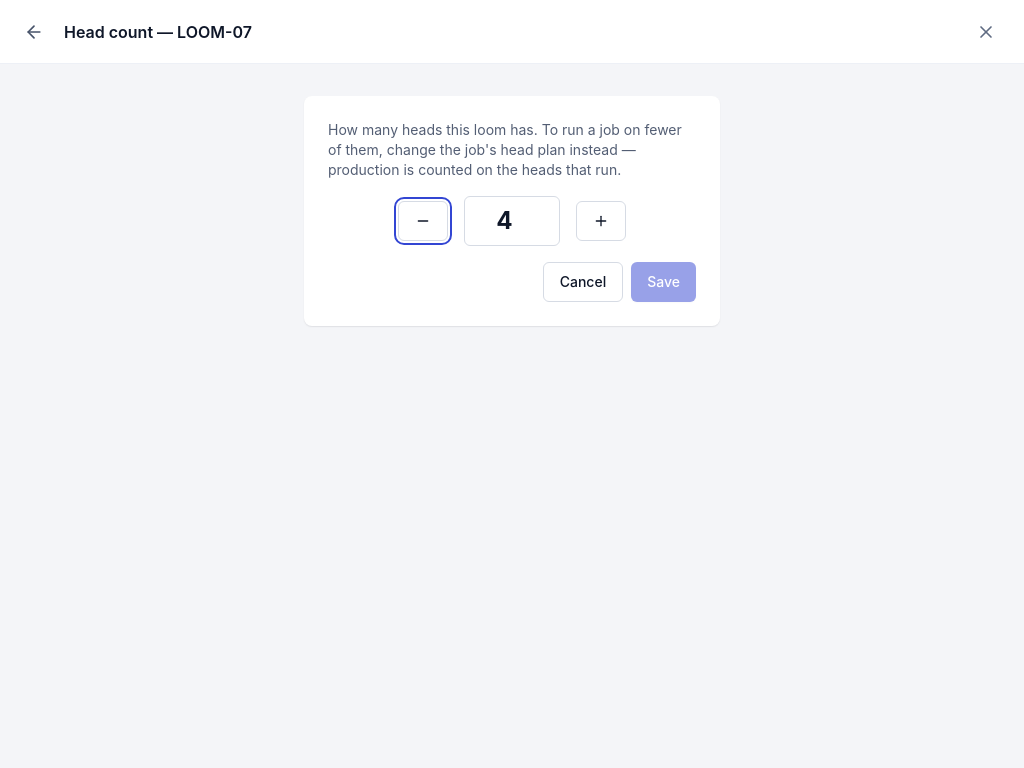
Test: MachineHeadCountModal › will not save until the number has actually changed
Expected: the button "Save" is disabled, [631,262,696,302]
Click the button named "one more head": click(601, 221) [576,201,626,241]
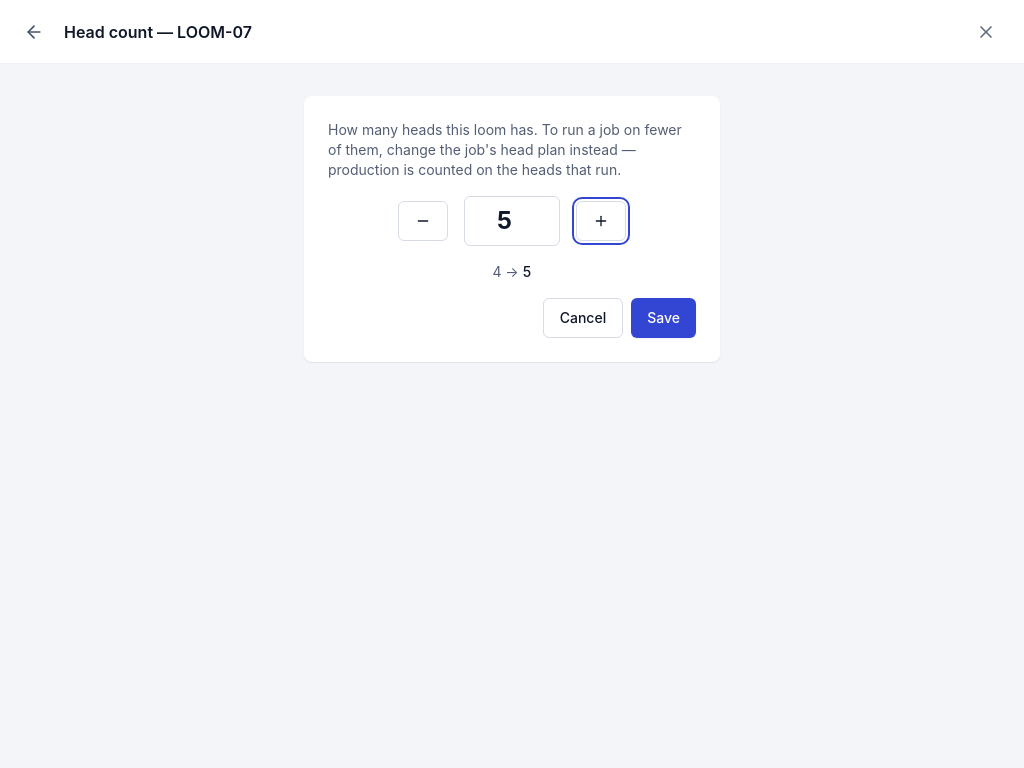
Now the button "Save" is enabled, box [631,298,696,338]
